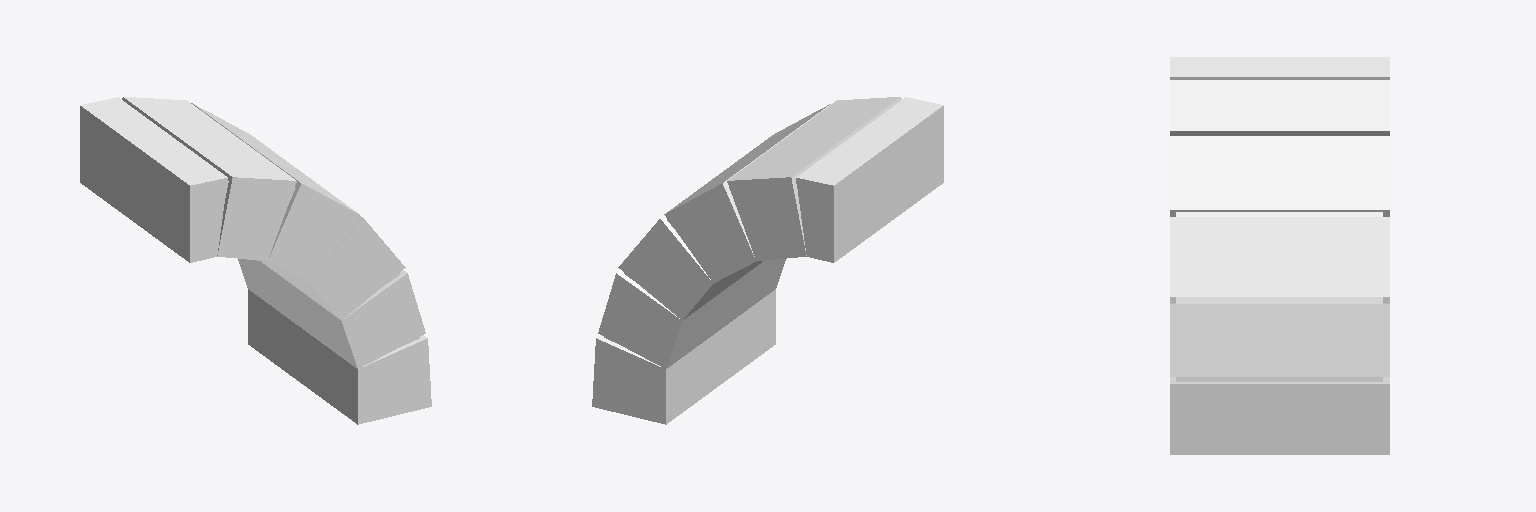
File: generic_round_arch_2.obj
The picture shows the model from 3 angles: view 1: azimuth 30°, elevation 25°; view 2: azimuth 150°, elevation 25°; view 3: azimuth 270°, elevation 25°; orthographic projection.
Parts seen in each view (by area): view 1: cube.043, cube.038, cube.042, cube.039, cube.041, cube.040; view 2: cube.043, cube.038, cube.042, cube.039, cube.041, cube.040; view 3: cube.040, cube.041, cube.038, cube.039, cube.042, cube.043, cube.045, cube.044, cube.046.
Part boxes in pixels (bbox=[...]): cube.043: bbox=[80, 97, 227, 262]; cube.038: bbox=[248, 289, 431, 424]; cube.042: bbox=[122, 97, 296, 260]; cube.039: bbox=[238, 259, 425, 368]; cube.041: bbox=[191, 103, 359, 283]; cube.040: bbox=[261, 215, 405, 320]; cube.043: bbox=[796, 97, 943, 262]; cube.038: bbox=[592, 289, 775, 424]; cube.042: bbox=[727, 97, 901, 260]; cube.039: bbox=[598, 259, 785, 368]; cube.041: bbox=[664, 103, 832, 283]; cube.040: bbox=[618, 215, 762, 320]; cube.040: bbox=[1170, 217, 1389, 302]; cube.041: bbox=[1170, 136, 1389, 216]; cube.038: bbox=[1170, 377, 1389, 454]; cube.039: bbox=[1170, 303, 1389, 376]; cube.042: bbox=[1170, 80, 1389, 135]; cube.043: bbox=[1170, 57, 1389, 79]; cube.045: bbox=[1176, 297, 1382, 303]; cube.044: bbox=[1176, 377, 1382, 381]; cube.046: bbox=[1176, 212, 1382, 216].
Size of the model in its own units: 1.43 by 1.58 by 1.13.